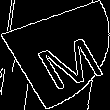M_NW: (14, 23, 96, 87)
